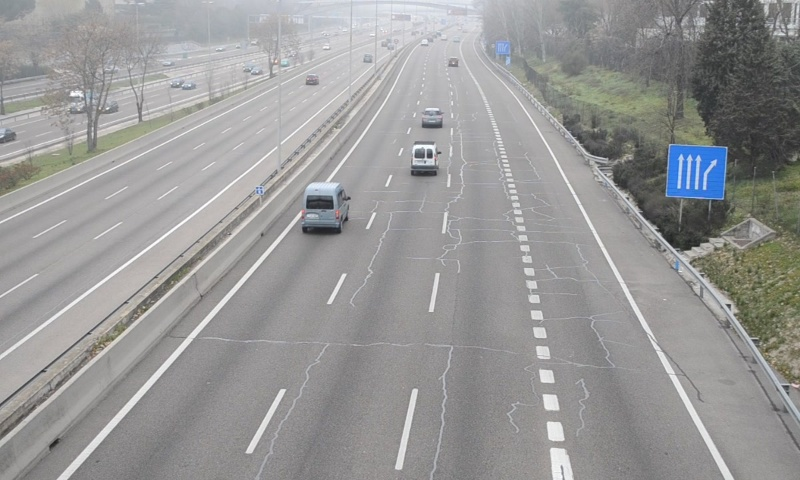car: (420, 108, 444, 129)
van: (302, 183, 349, 230), (410, 142, 437, 174)
